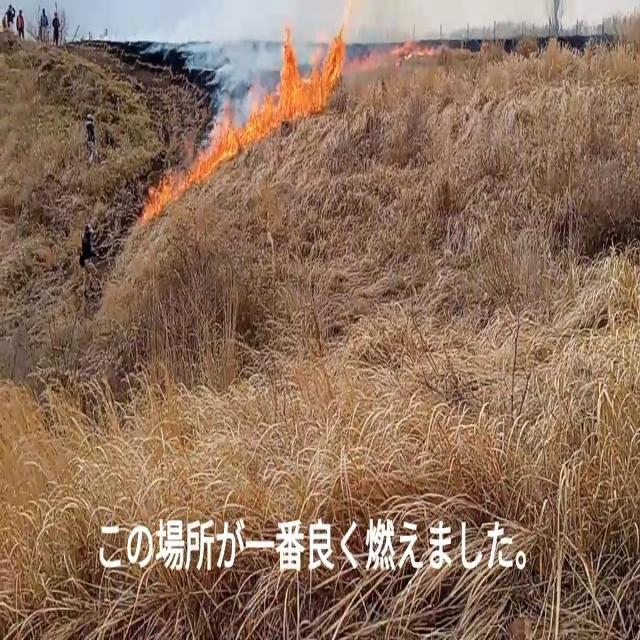Fire: (142, 94, 270, 220), (268, 5, 352, 126)
